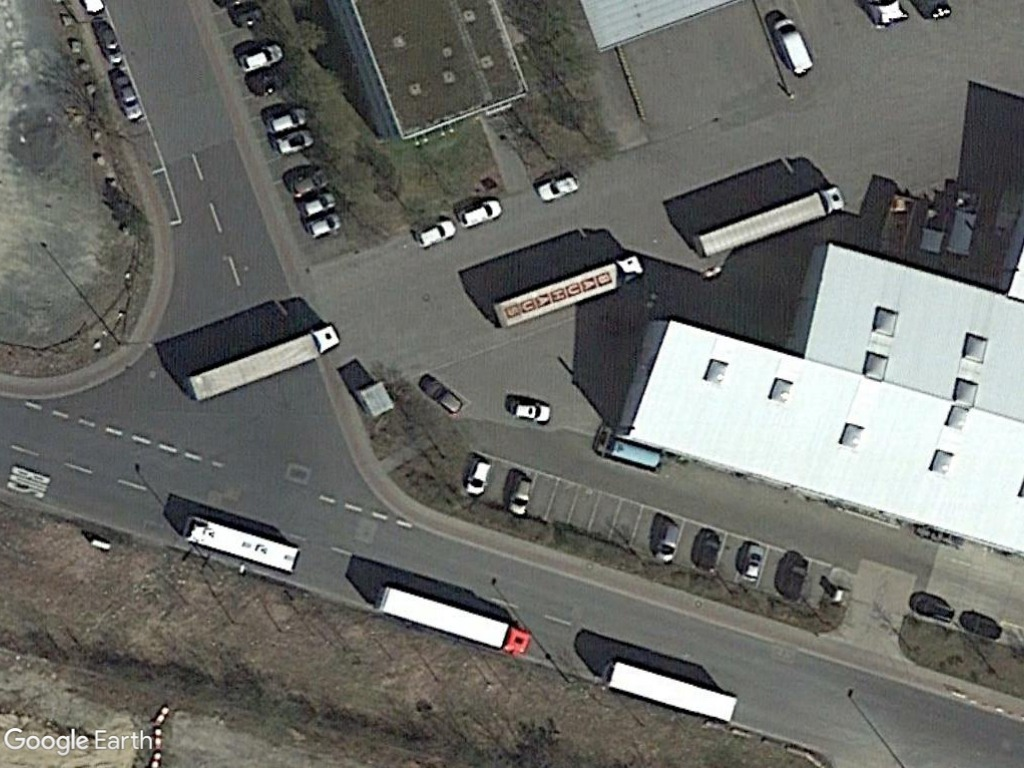bus: (596, 652, 740, 723), (178, 510, 306, 581)
car: (410, 363, 468, 421), (499, 466, 542, 525), (650, 506, 686, 575), (733, 531, 771, 594), (458, 449, 496, 508), (506, 388, 558, 430), (407, 212, 460, 252), (236, 38, 288, 78), (264, 128, 326, 160), (452, 194, 507, 230), (260, 101, 318, 134), (530, 170, 583, 201)
longvehicle: (183, 320, 345, 405), (368, 578, 537, 659), (687, 183, 848, 263), (492, 254, 647, 333)
van: (767, 13, 818, 81)
